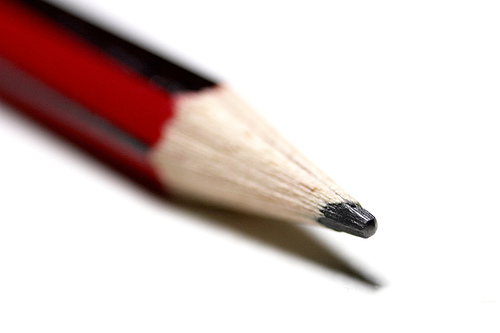pen_tip: (117, 71, 408, 258)
